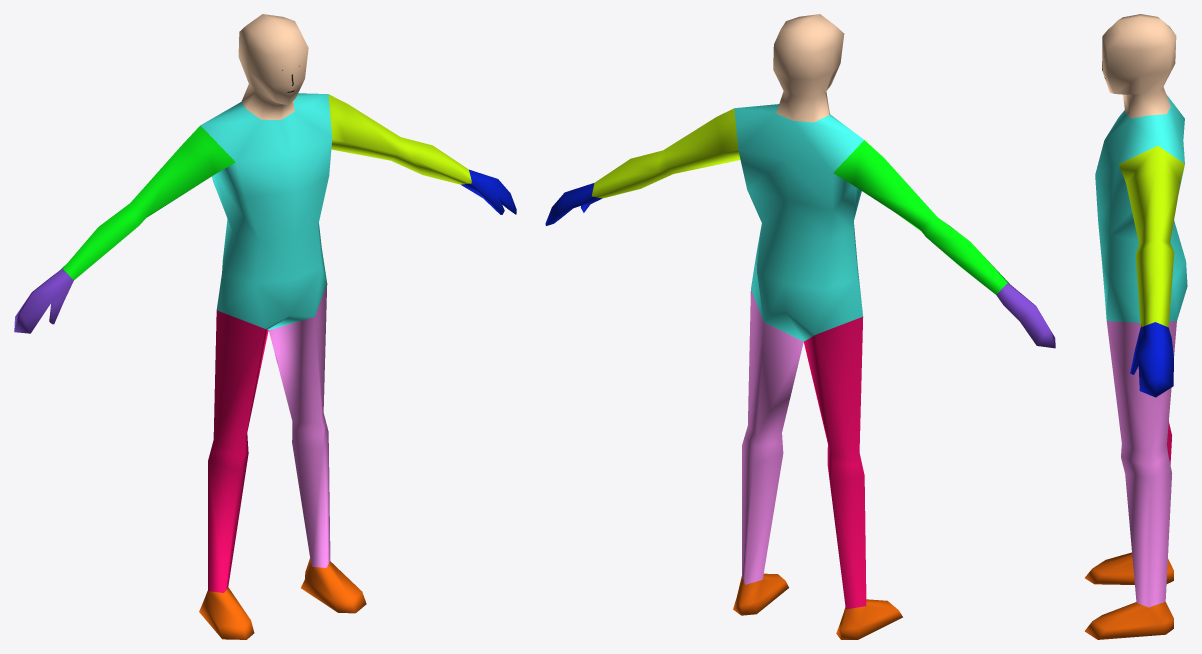
File: Humanoid.obj
3 views of the same model, side by side, from view 1: azimuth 30°, elevation 25°; view 2: azimuth 150°, elevation 25°; view 3: azimuth 270°, elevation 25° (orthographic).
Parts seen in each view (by area): view 1: HumanoidBase_NotOverlapping; view 2: HumanoidBase_NotOverlapping; view 3: HumanoidBase_NotOverlapping.
Part boxes in pixels (x1,y1,x2,y2): HumanoidBase_NotOverlapping: (14,14,516,639); HumanoidBase_NotOverlapping: (545,14,1055,639); HumanoidBase_NotOverlapping: (1084,14,1187,639).
Size of the model in its own units: 1.61 by 1.8 by 0.2862.
Materials: 1 (1 with a texture image).
